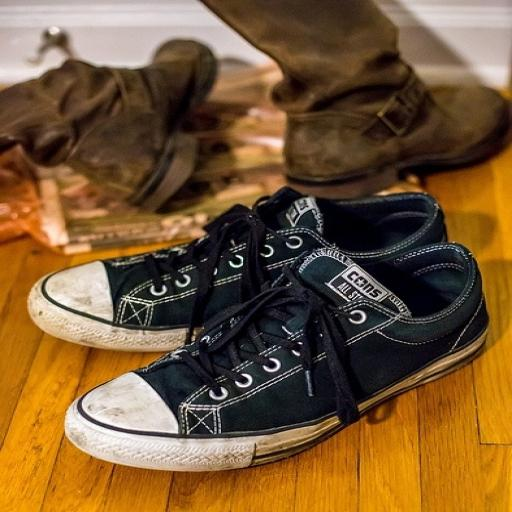boots: (202, 0, 510, 197), (0, 39, 217, 210)
shoe: (65, 244, 489, 471), (28, 188, 446, 352)
